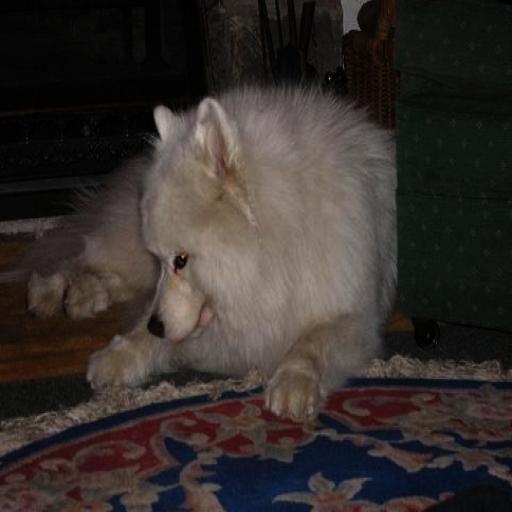dog_face: (137, 109, 254, 345)
